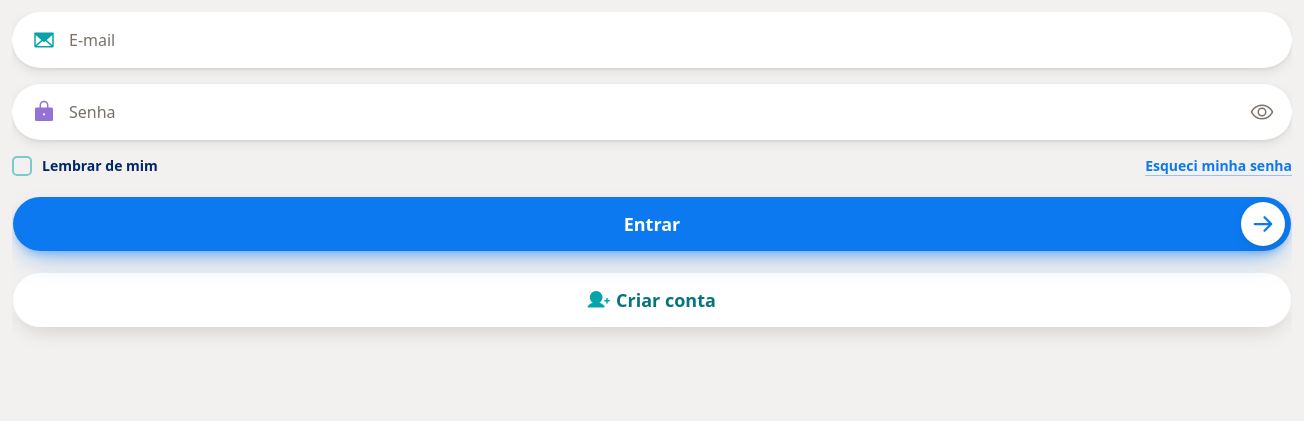
Test case: LoginForm › mostra mensagem honesta quando o servidor está fora do ar
Type "pais@tasabido.com.br" into the field labelled "E-mail" at x=652, y=40, box [12,12,1292,68]
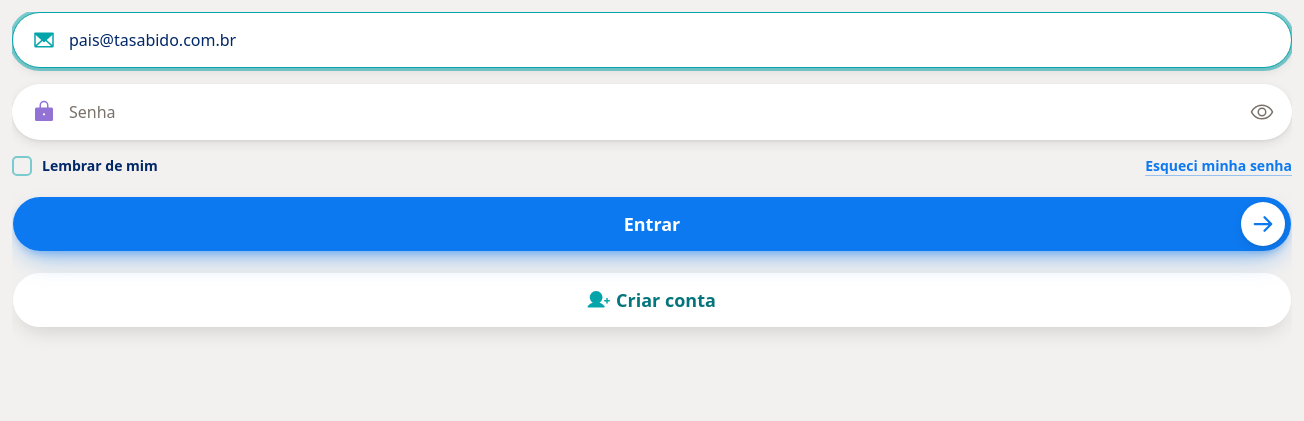
Type "senha12345" into the password field labelled "Senha" at x=652, y=112, box [12,84,1292,140]
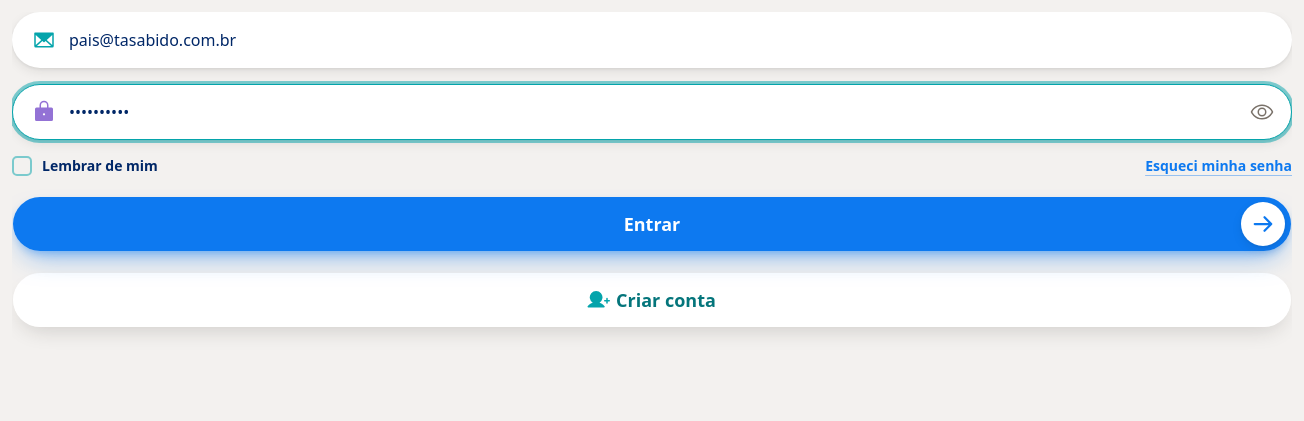
Click the button "Entrar" at x=652, y=224, box [12,196,1292,252]
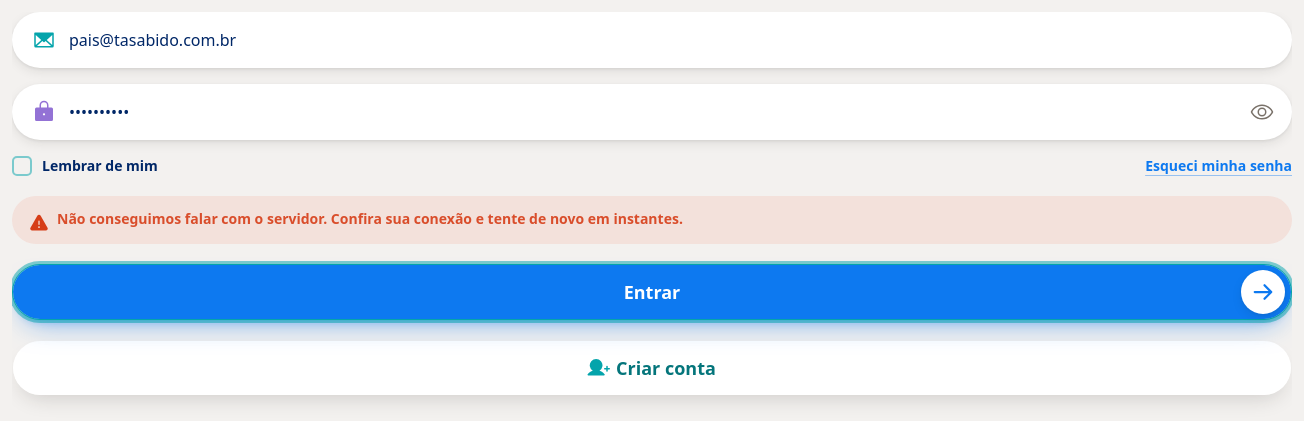
Expected: the text "Não conseguimos falar com o servidor. Confira sua conexão e tente de novo em instantes." is shown, [57,209,683,228]
